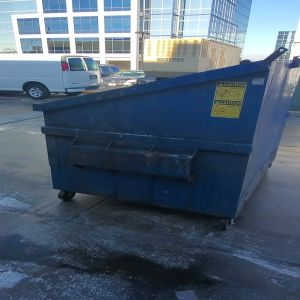Dumpster: (34, 55, 300, 231)
